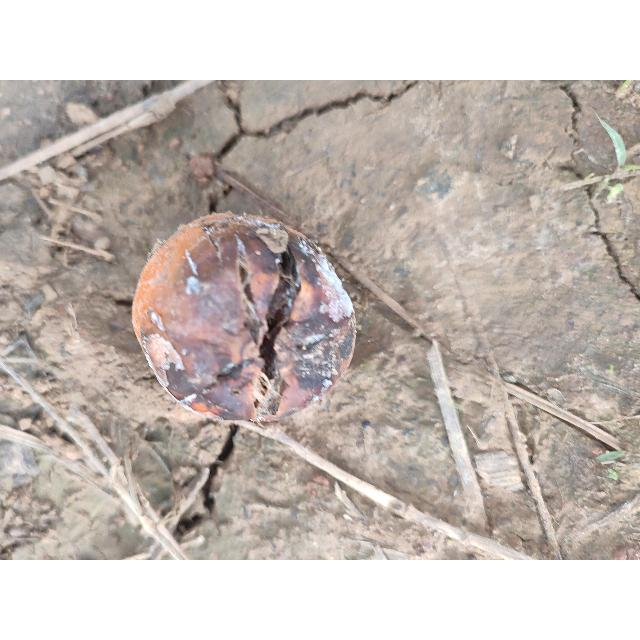damaged: (130, 213, 358, 425)
